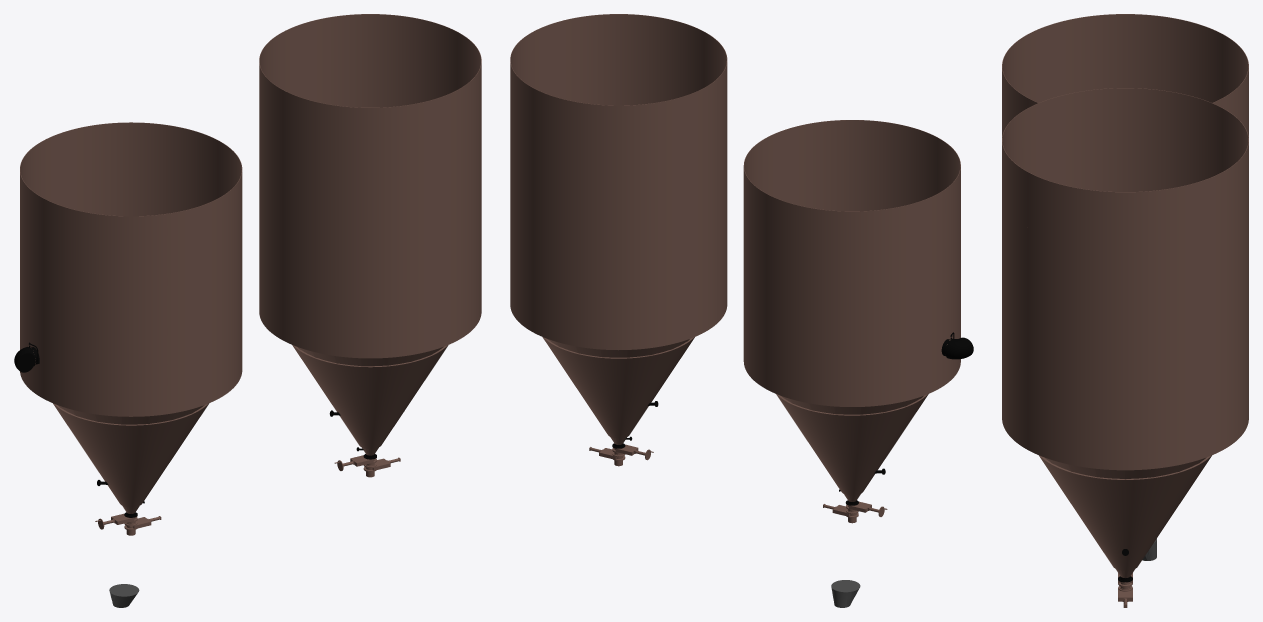
The model's file is GCC-AAV-13220-30.nwd(104).fbx.
3 renders of one model, left to right at view 1: azimuth 30°, elevation 25°; view 2: azimuth 150°, elevation 25°; view 3: azimuth 270°, elevation 25°, orthographic. The views are drawn at different scales.
Parts seen in each view (by area): view 1: CYLINDER 7 of EQUIPMENT /713-S-301B, CYLINDER 6 of EQUIPMENT /713-S-302B, CYLINDER 8 of EQUIPMENT /713-S-301B, CYLINDER 7 of EQUIPMENT /713-S-302B, CYLINDER 9 of EQUIPMENT /713-S-301B, CYLINDER 10 of EQUIPMENT /713-S-302B, CYLINDER 9 of EQUIPMENT /713-S-302B, CYLINDER 8 of EQUIPMENT /713-S-302B, CYLINDER 10 of EQUIPMENT /713-S-301B, CONE 2 of EQUIPMENT /713-S-301B, CONE 2 of EQUIPMENT /713-S-302B, CONE 1 of EQUIPMENT /713-S-301B (+1 smaller); view 2: CYLINDER 6 of EQUIPMENT /713-S-302B, CYLINDER 7 of EQUIPMENT /713-S-301B, CYLINDER 7 of EQUIPMENT /713-S-302B, CYLINDER 8 of EQUIPMENT /713-S-301B, CYLINDER 8 of EQUIPMENT /713-S-302B, CYLINDER 9 of EQUIPMENT /713-S-302B, CYLINDER 9 of EQUIPMENT /713-S-301B, CYLINDER 10 of EQUIPMENT /713-S-302B, CYLINDER 10 of EQUIPMENT /713-S-301B, CONE 2 of EQUIPMENT /713-S-301B, CONE 2 of EQUIPMENT /713-S-302B, CONE 1 of EQUIPMENT /713-S-301B (+3 smaller); view 3: CYLINDER 6 of EQUIPMENT /713-S-302B, CYLINDER 7 of EQUIPMENT /713-S-302B, CYLINDER 7 of EQUIPMENT /713-S-301B, CYLINDER 10 of EQUIPMENT /713-S-302B, CYLINDER 9 of EQUIPMENT /713-S-302B, CYLINDER 8 of EQUIPMENT /713-S-302B, CONE 2 of EQUIPMENT /713-S-302B, CYLINDER 8 of EQUIPMENT /713-S-301B, CONE 1 of EQUIPMENT /713-S-302B.
Part boxes in pixels (x1,y1,x2,y2): CYLINDER 7 of EQUIPMENT /713-S-301B: [20, 122, 242, 266]; CYLINDER 6 of EQUIPMENT /713-S-302B: [259, 14, 481, 157]; CYLINDER 8 of EQUIPMENT /713-S-301B: [20, 172, 242, 316]; CYLINDER 7 of EQUIPMENT /713-S-302B: [259, 64, 481, 208]; CYLINDER 9 of EQUIPMENT /713-S-301B: [20, 272, 242, 366]; CYLINDER 10 of EQUIPMENT /713-S-302B: [259, 264, 481, 358]; CYLINDER 9 of EQUIPMENT /713-S-302B: [259, 214, 481, 308]; CYLINDER 8 of EQUIPMENT /713-S-302B: [259, 163, 481, 258]; CYLINDER 10 of EQUIPMENT /713-S-301B: [20, 322, 242, 416]; CONE 2 of EQUIPMENT /713-S-301B: [53, 403, 208, 507]; CONE 2 of EQUIPMENT /713-S-302B: [292, 345, 448, 448]; CONE 1 of EQUIPMENT /713-S-301B: [58, 405, 204, 513]; CYLINDER 6 of EQUIPMENT /713-S-302B: [510, 14, 727, 154]; CYLINDER 7 of EQUIPMENT /713-S-301B: [743, 120, 960, 260]; CYLINDER 7 of EQUIPMENT /713-S-302B: [510, 63, 727, 203]; CYLINDER 8 of EQUIPMENT /713-S-301B: [743, 169, 960, 309]; CYLINDER 8 of EQUIPMENT /713-S-302B: [510, 160, 727, 252]; CYLINDER 9 of EQUIPMENT /713-S-302B: [510, 209, 727, 301]; CYLINDER 9 of EQUIPMENT /713-S-301B: [743, 264, 960, 358]; CYLINDER 10 of EQUIPMENT /713-S-302B: [510, 258, 727, 350]; CYLINDER 10 of EQUIPMENT /713-S-301B: [743, 313, 960, 406]; CONE 2 of EQUIPMENT /713-S-301B: [776, 394, 928, 495]; CONE 2 of EQUIPMENT /713-S-302B: [542, 337, 694, 438]; CONE 1 of EQUIPMENT /713-S-301B: [781, 396, 923, 501]; CYLINDER 6 of EQUIPMENT /713-S-302B: [1002, 88, 1248, 247]; CYLINDER 7 of EQUIPMENT /713-S-302B: [1002, 144, 1248, 303]; CYLINDER 7 of EQUIPMENT /713-S-301B: [1002, 14, 1248, 130]; CYLINDER 10 of EQUIPMENT /713-S-302B: [1002, 365, 1248, 470]; CYLINDER 9 of EQUIPMENT /713-S-302B: [1002, 309, 1248, 414]; CYLINDER 8 of EQUIPMENT /713-S-302B: [1002, 253, 1248, 358]; CONE 2 of EQUIPMENT /713-S-302B: [1039, 455, 1211, 570]; CYLINDER 8 of EQUIPMENT /713-S-301B: [1002, 69, 1248, 137]; CONE 1 of EQUIPMENT /713-S-302B: [1044, 457, 1206, 577].
Bounding box in the file's own units: 748 × 774 × 317.
